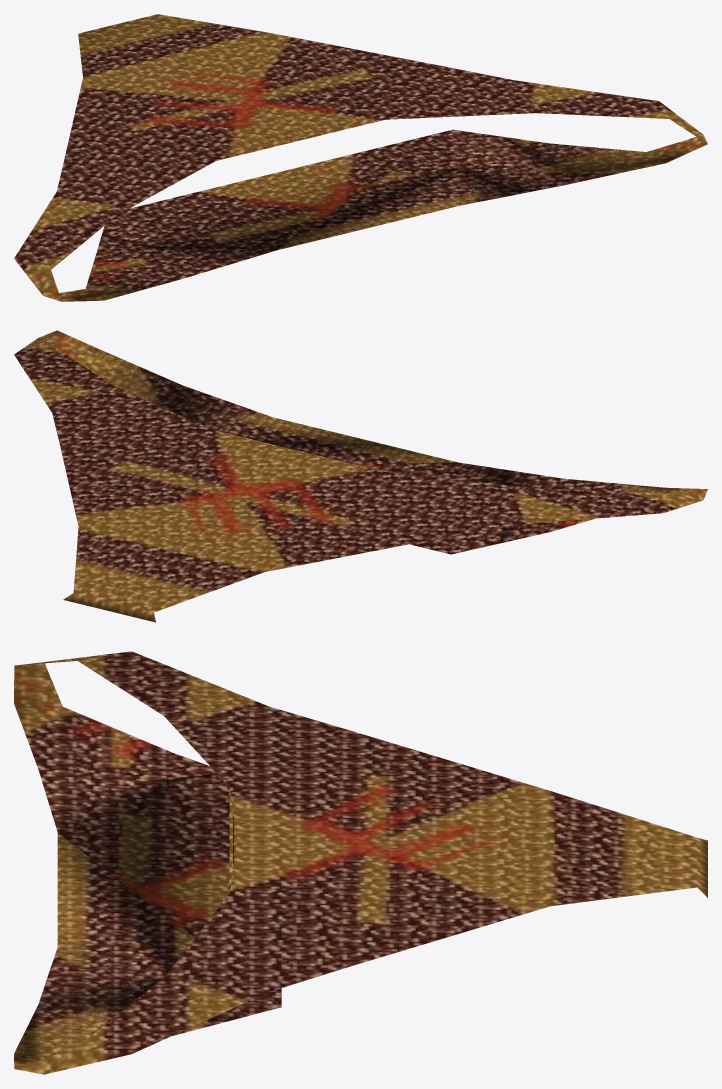
The model's file is panties.gltf.
3 renders of one model, top to bottom at view 1: azimuth 30°, elevation 25°; view 2: azimuth 150°, elevation 25°; view 3: azimuth 270°, elevation 25°, orthographic. The views are drawn at different scales.
Parts seen in each view (by area): view 1: Panties; view 2: Panties; view 3: Panties.
Boxes of the visible parts, x1,y1,x2,y2 form: Panties: (14,14,707,301); Panties: (14,330,707,622); Panties: (14,651,707,1074).
Size of the model in its own units: 0.3532 by 0.0246 by 0.2511.
Materials: 3 (3 with a texture image).
